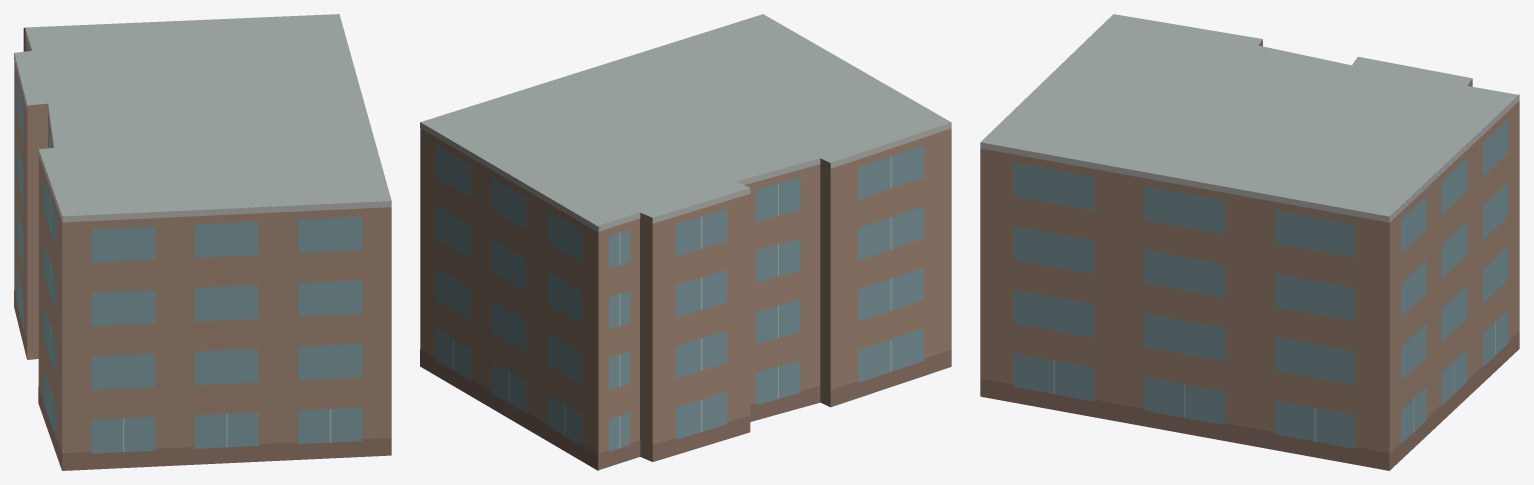
File: survey-upis-32780456.glb
3 views of the same model, side by side, from view 1: azimuth 30°, elevation 25°; view 2: azimuth 150°, elevation 25°; view 3: azimuth 270°, elevation 25° (orthographic). The views are drawn at different scales.
Visible parts, largest first — view 1: survey-upis-32780456.tmp; view 2: survey-upis-32780456.tmp; view 3: survey-upis-32780456.tmp.
Part boxes in pixels (bbox=[...]): survey-upis-32780456.tmp: bbox=[14, 14, 391, 470]; survey-upis-32780456.tmp: bbox=[420, 14, 951, 470]; survey-upis-32780456.tmp: bbox=[980, 14, 1519, 470].
Size of the model in its own units: 17.44 by 10.2 by 19.62.
